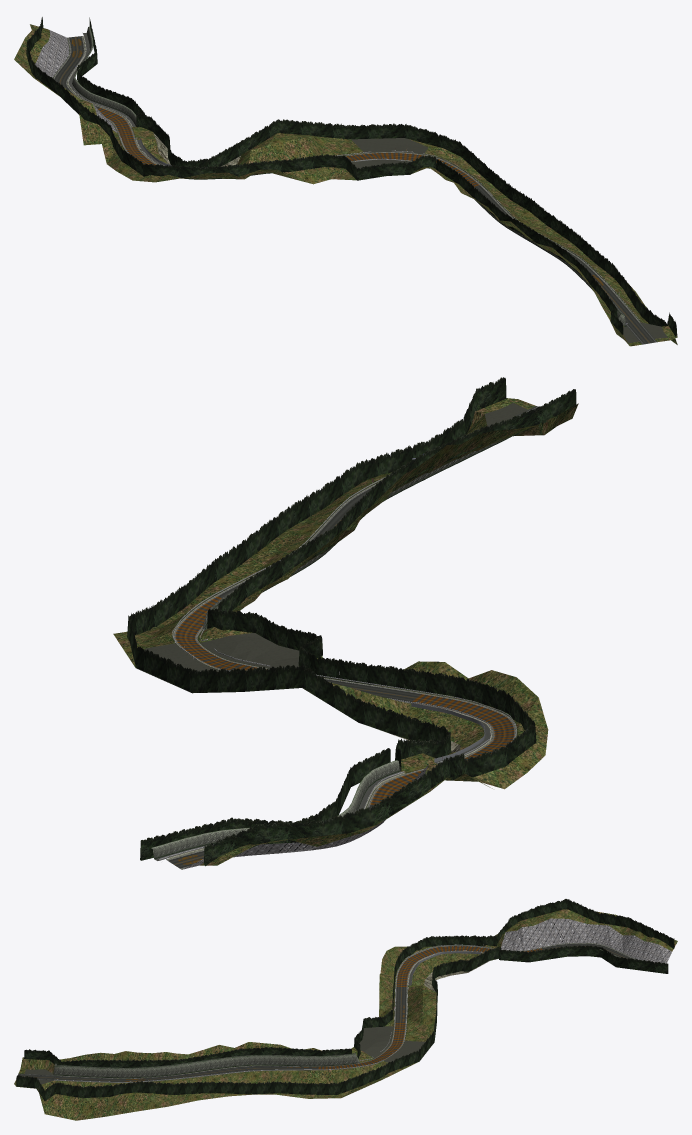
The model's file is okaru.glb.
3 views of the same model, one above another, from view 1: azimuth 30°, elevation 25°; view 2: azimuth 150°, elevation 25°; view 3: azimuth 270°, elevation 25° (orthographic). The views are drawn at different scales.
Parts seen in each view (by area): view 1: okaru; view 2: okaru; view 3: okaru.
Part boxes in pixels (left/top/right/bottom): okaru: left=14, top=17, right=677, bottom=346; okaru: left=113, top=377, right=578, bottom=869; okaru: left=14, top=899, right=677, bottom=1120.
Bounding box in the file's own units: 209 × 73.64 × 453.
17 materials, 17 textured.
